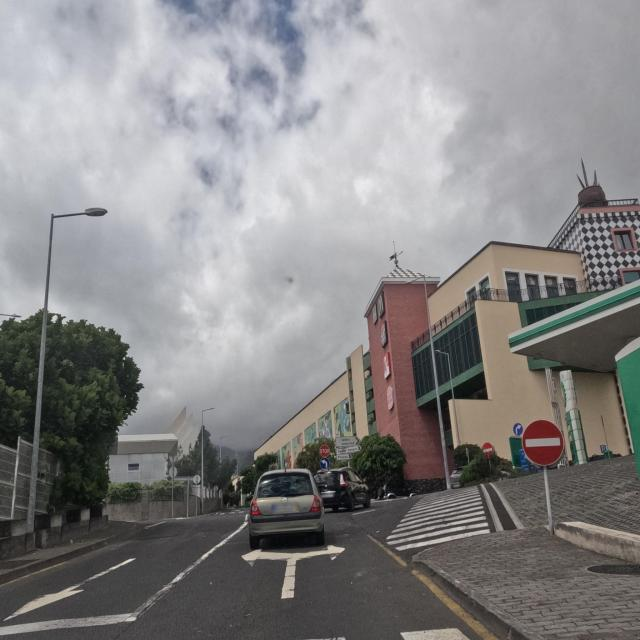car: (248, 468, 326, 549), (314, 467, 371, 512)
